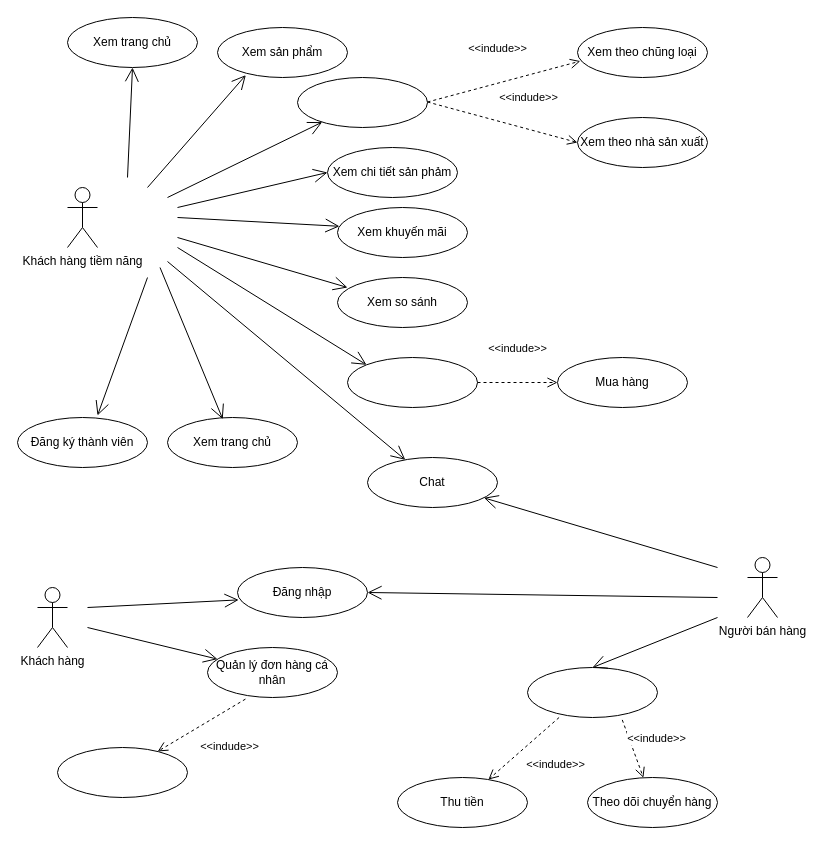
Image size: 823x845. Some labels were removed from this diagram. Each missing label, with the centre of its shape:
"Quản lý giỏ hàng" belongs at pixel 412 382.
"Quản lý đơn hàng" belongs at pixel 592 692.
"Thanh toán" belongs at pixel 122 772.
"Tìm kiếm" belongs at pixel 362 102.
